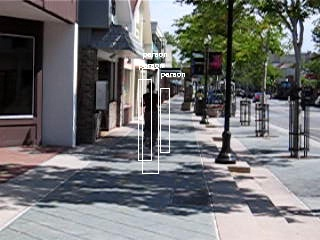person: (141, 85, 162, 151), (140, 85, 161, 151), (142, 85, 163, 151), (141, 84, 162, 150), (141, 86, 162, 152)
target_negative: (101, 32, 312, 134), (205, 67, 312, 94), (44, 158, 89, 188), (175, 19, 187, 43), (125, 217, 264, 218), (230, 24, 232, 25)
